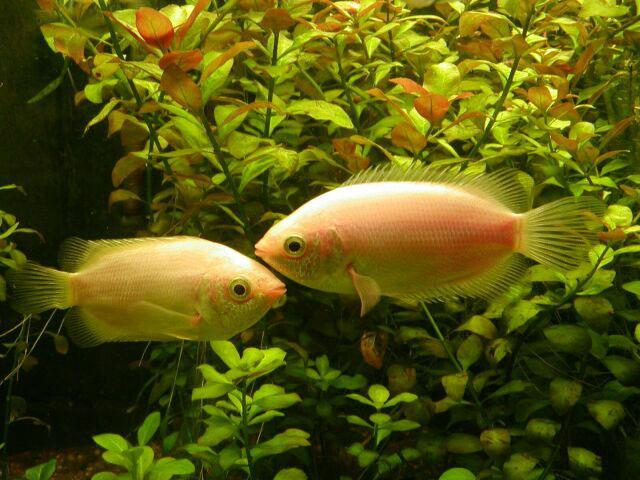Mulut: (238, 230, 284, 270), (260, 269, 302, 309)
Sirip Anal: (392, 244, 526, 304), (46, 299, 152, 354)
Sirip Dada: (329, 254, 395, 322), (116, 290, 204, 338)
Sirip Ekor: (506, 185, 612, 283), (1, 241, 78, 336)
Sirip Punggung: (321, 154, 537, 220), (54, 232, 190, 276)
